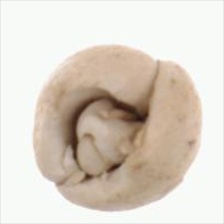L3: (51, 86, 150, 189)
L4: (33, 45, 202, 212)
